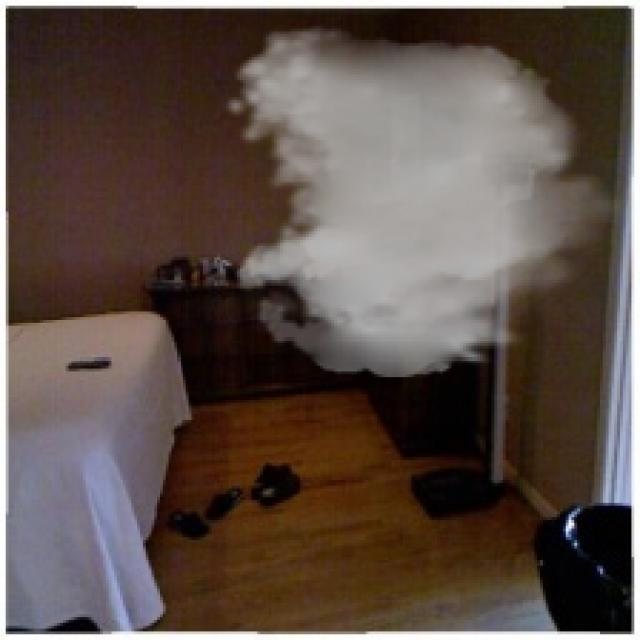Smoke: (223, 26, 632, 377)
